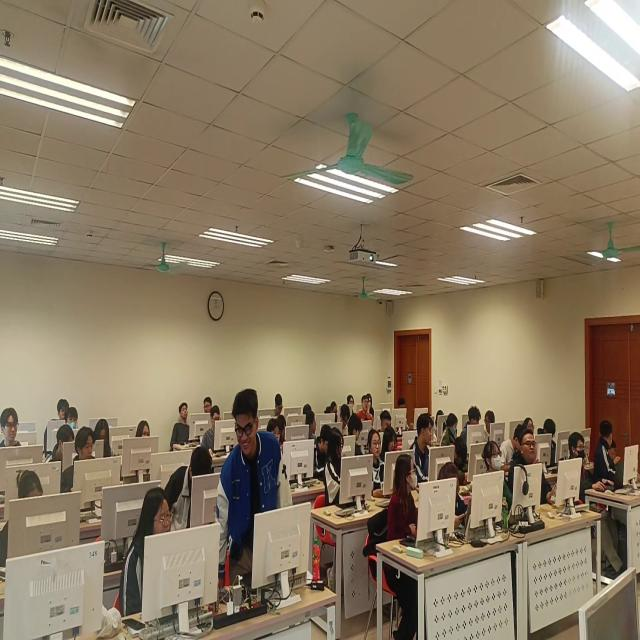raise_head: (510, 431, 555, 508), (389, 451, 420, 543), (483, 439, 509, 510), (367, 429, 387, 497), (170, 399, 192, 450), (1, 407, 24, 452), (265, 417, 283, 447), (359, 396, 372, 424), (135, 418, 152, 439), (56, 396, 70, 420), (348, 392, 356, 408)
stand: (217, 383, 300, 608)
using_computer: (119, 485, 175, 627), (2, 468, 45, 586), (164, 446, 212, 536), (567, 432, 614, 499), (61, 426, 98, 493), (327, 425, 347, 508), (314, 420, 333, 484), (46, 426, 74, 468), (500, 422, 522, 467), (202, 403, 223, 449), (541, 419, 558, 467), (96, 416, 114, 460), (463, 407, 481, 449), (382, 425, 400, 464), (440, 414, 458, 446), (398, 395, 412, 430), (340, 403, 351, 433), (278, 414, 289, 443), (381, 409, 394, 433), (324, 398, 338, 420), (274, 390, 284, 415), (436, 408, 445, 435)
